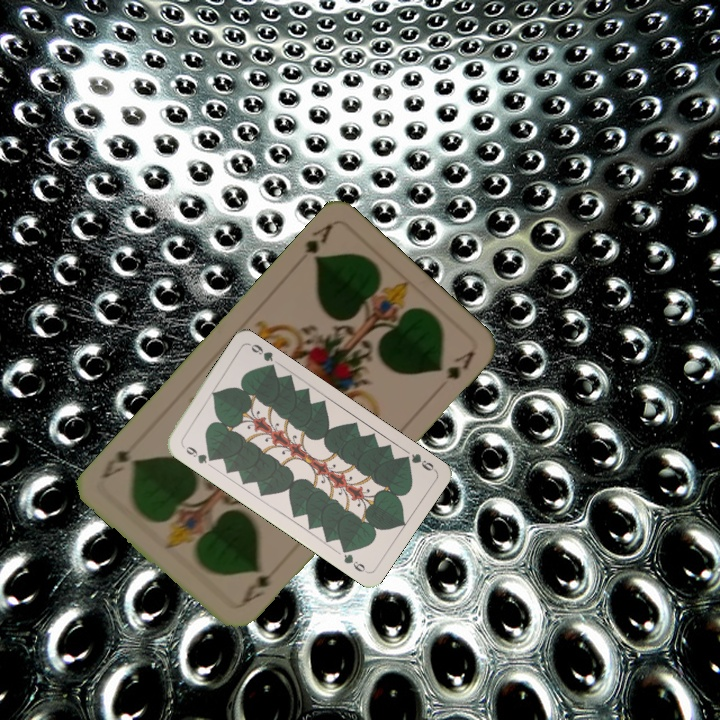G9: (398, 449, 438, 474), (178, 440, 216, 466)
GA: (235, 562, 281, 610), (301, 220, 335, 265)
